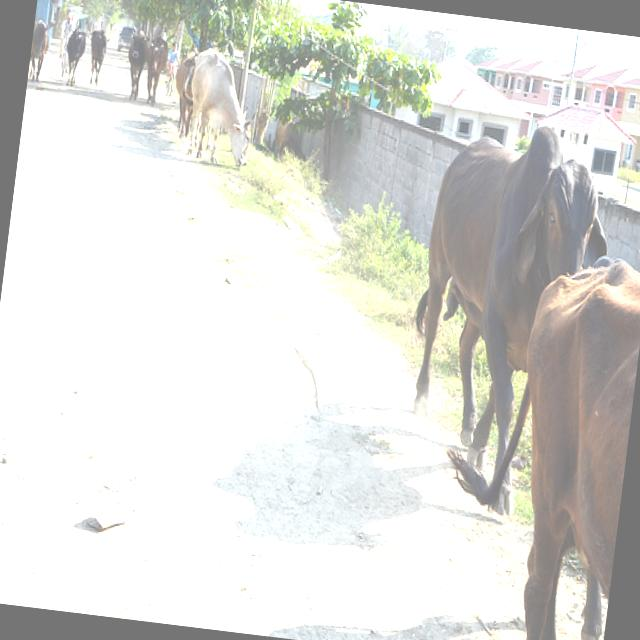Vehicle: (116, 23, 135, 51)
